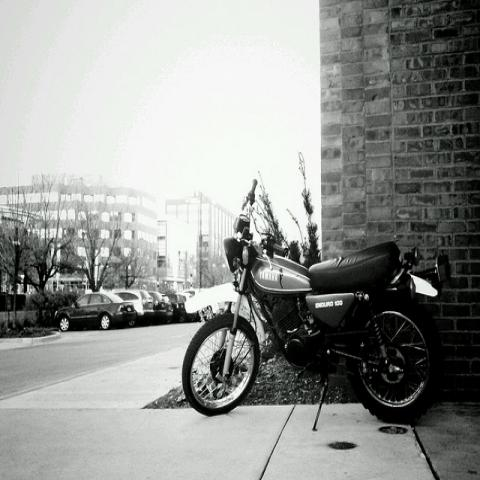car: (53, 293, 136, 333), (103, 291, 144, 316), (148, 290, 174, 327), (124, 290, 155, 315), (180, 294, 198, 324), (169, 293, 185, 322), (180, 288, 200, 297)
motorcycle: (182, 181, 449, 432)
